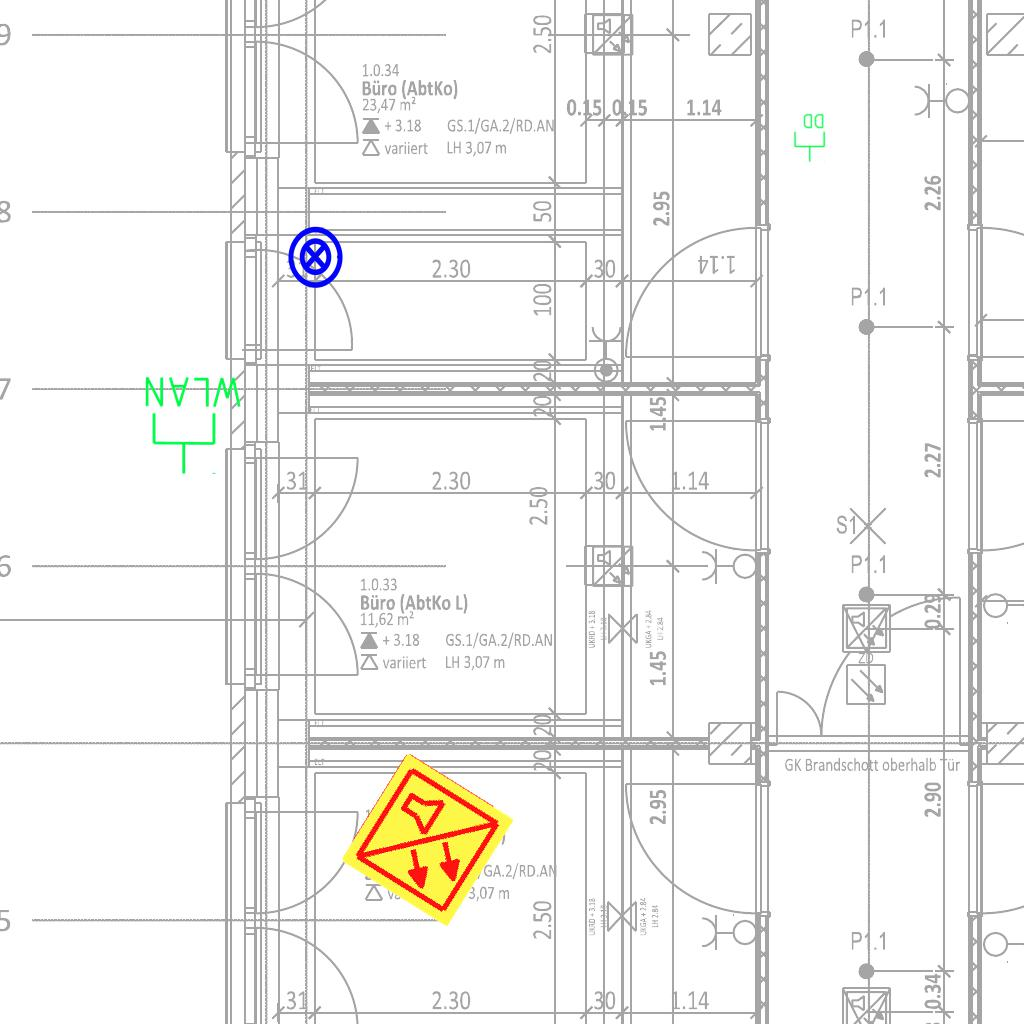Datenanschluss_zweifach: (793, 112, 827, 163)
OKW_Multisensormelder_(Kombination_optischer_Rauch-Kahlenmonoxid_Waerme-Melder): (336, 749, 518, 931)
Taster_beleuchtet: (282, 224, 348, 290)
WLAN: (141, 373, 246, 477)
